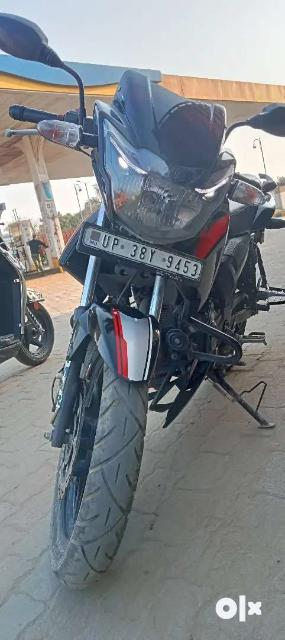Indian_Number_Plate: (79, 224, 206, 285)
